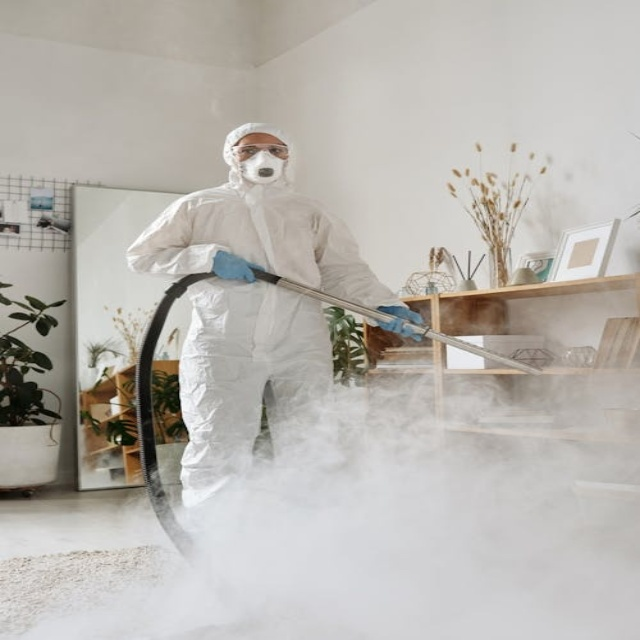Gafas: (232, 145, 290, 161)
Guantes: (374, 305, 426, 340), (211, 249, 259, 283)
Mascara: (238, 152, 287, 185)
